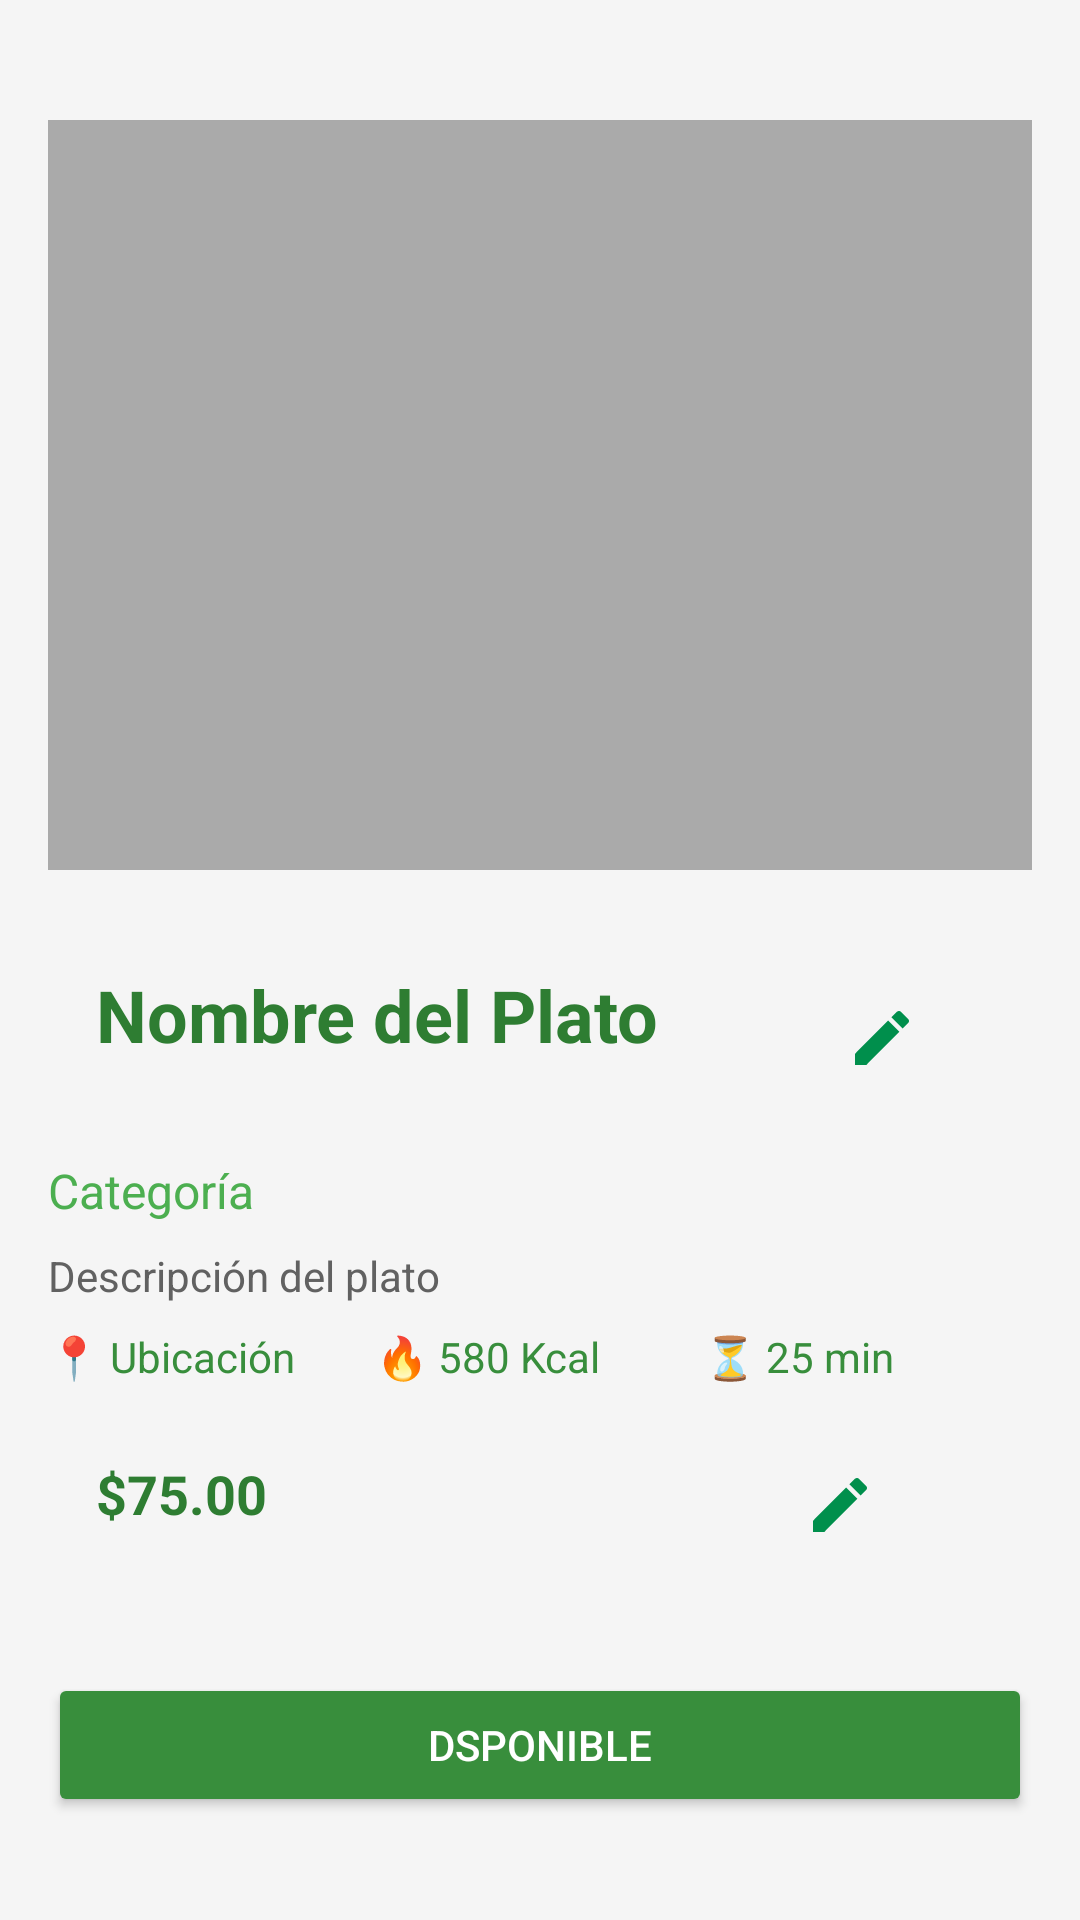

Named icons in this screenshot (1080 × 1920) and their bounding boxes, (x1, y1, x2, y2):
edit: (855, 1011, 909, 1065), (813, 1478, 867, 1532)
